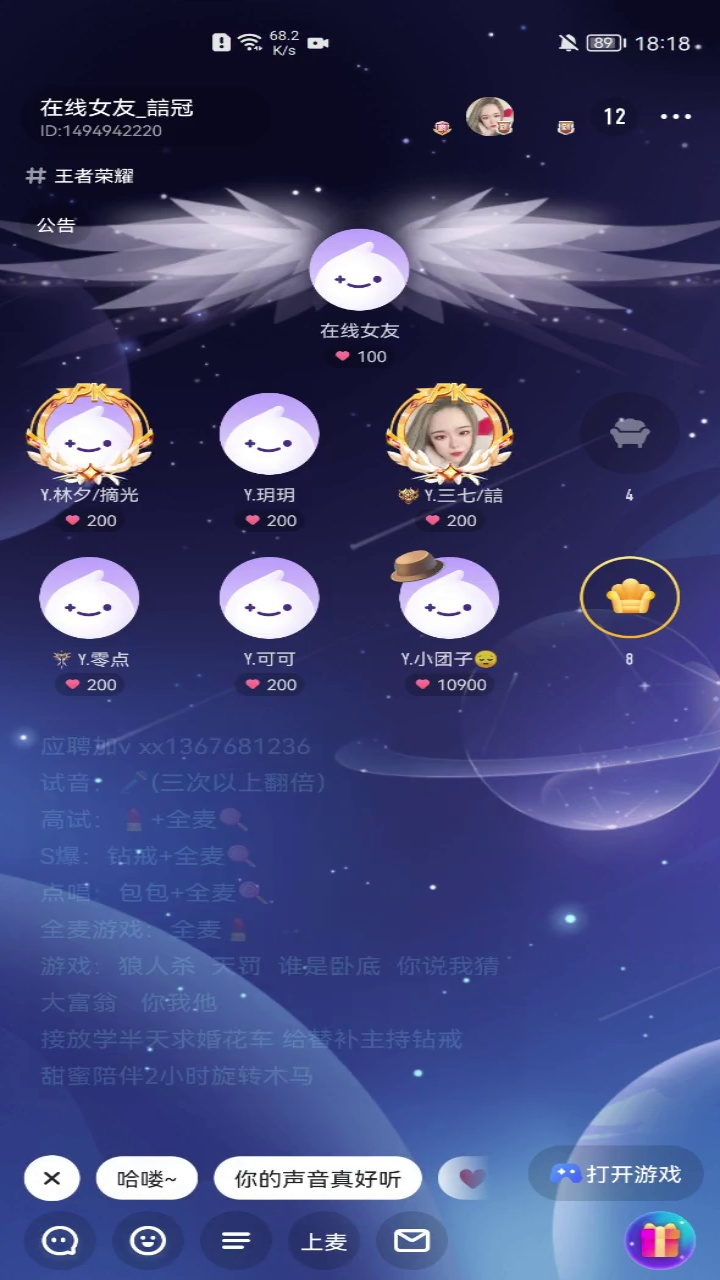avatar: (21, 378, 159, 486), (387, 545, 504, 641), (212, 553, 328, 645), (213, 386, 325, 480), (301, 228, 416, 314), (33, 554, 145, 640)
